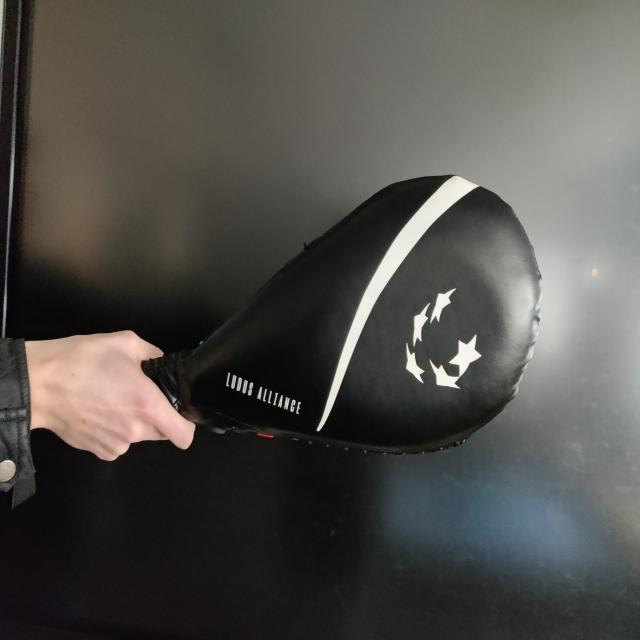paddle: (142, 174, 542, 459)
